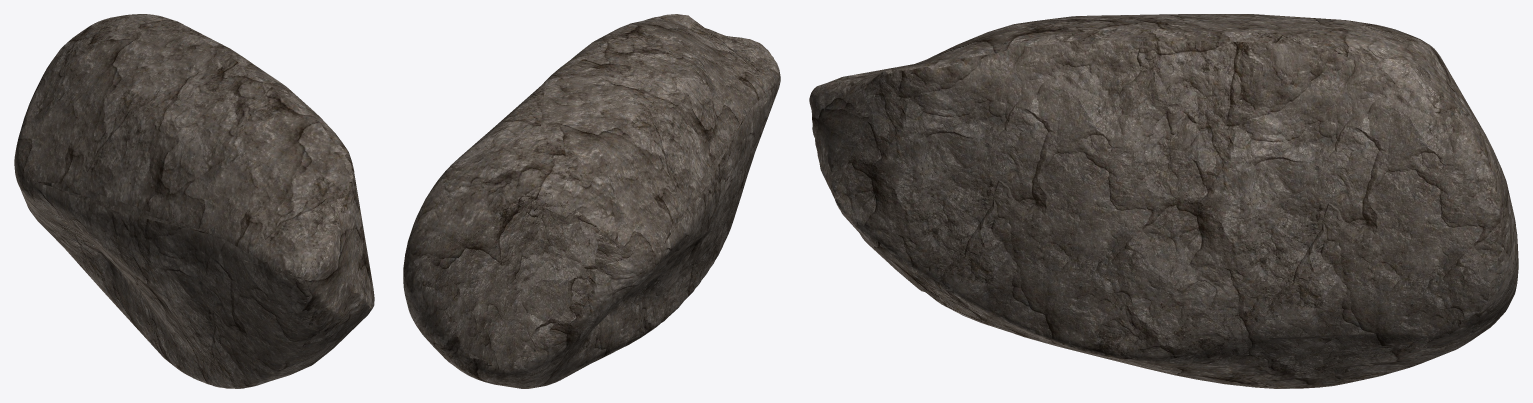
Rendered from rock5.glb.
3 views of the same model, side by side, from view 1: azimuth 30°, elevation 25°; view 2: azimuth 150°, elevation 25°; view 3: azimuth 270°, elevation 25° (orthographic). The views are drawn at different scales.
Parts seen in each view (by area): view 1: rock5.010; view 2: rock5.010; view 3: rock5.010.
Boxes of the visible parts, bbox=[...] form: rock5.010: bbox=[14, 14, 374, 388]; rock5.010: bbox=[403, 14, 780, 388]; rock5.010: bbox=[809, 14, 1518, 388].
Size of the model in its own units: 8.34 by 10.72 by 18.8.
Materials: 1 (1 with a texture image).
